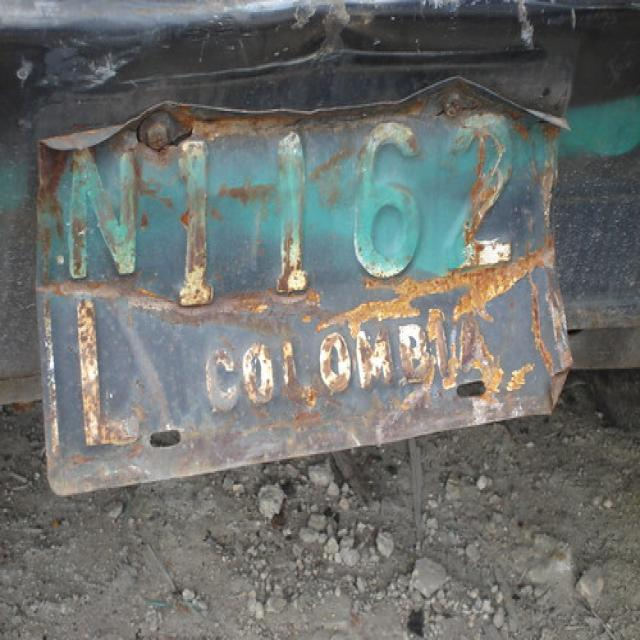placas: (49, 101, 553, 301)
